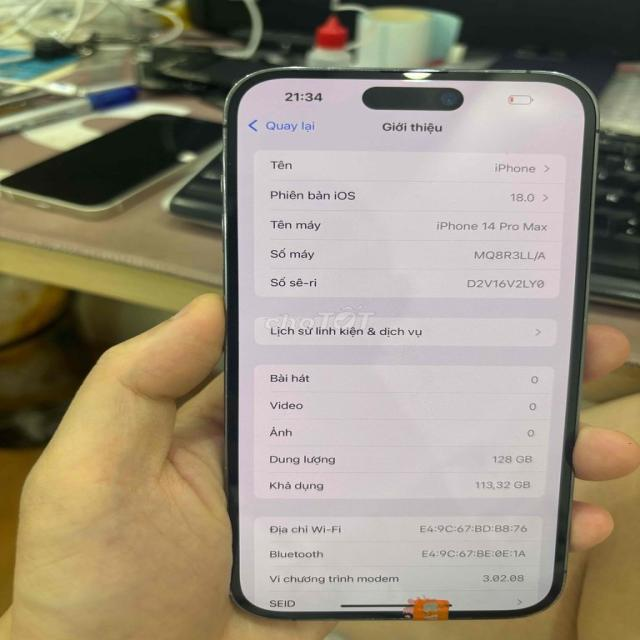gen_14: (218, 65, 603, 638)
